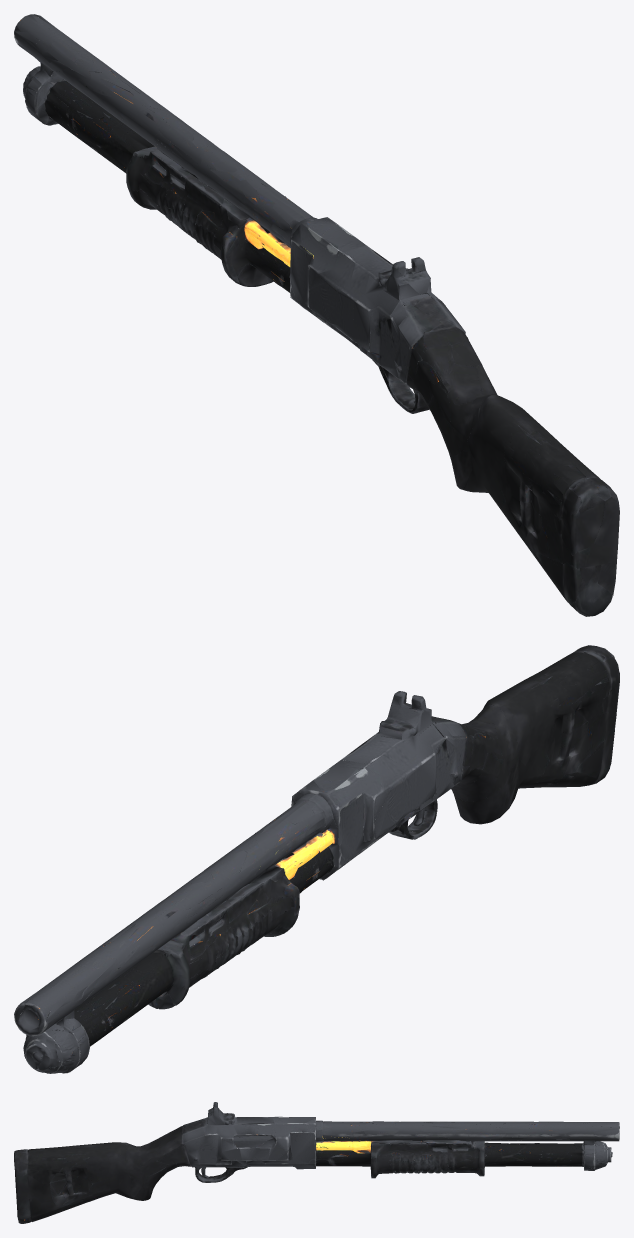
Rendered from shotgun.glb.
3 views of the same model, one above another, from view 1: azimuth 30°, elevation 25°; view 2: azimuth 150°, elevation 25°; view 3: azimuth 270°, elevation 25° (orthographic). The views are drawn at different scales.
Parts seen in each view (by area): view 1: ShotgunBody; view 2: ShotgunBody; view 3: ShotgunBody.
Boxes of the visible parts, bbox=[...] form: ShotgunBody: bbox=[14, 14, 619, 616]; ShotgunBody: bbox=[14, 645, 619, 1073]; ShotgunBody: bbox=[14, 1102, 619, 1223].
Size of the model in its own units: 0.0793 by 0.2221 by 1.03.
1 material, 1 textured.
